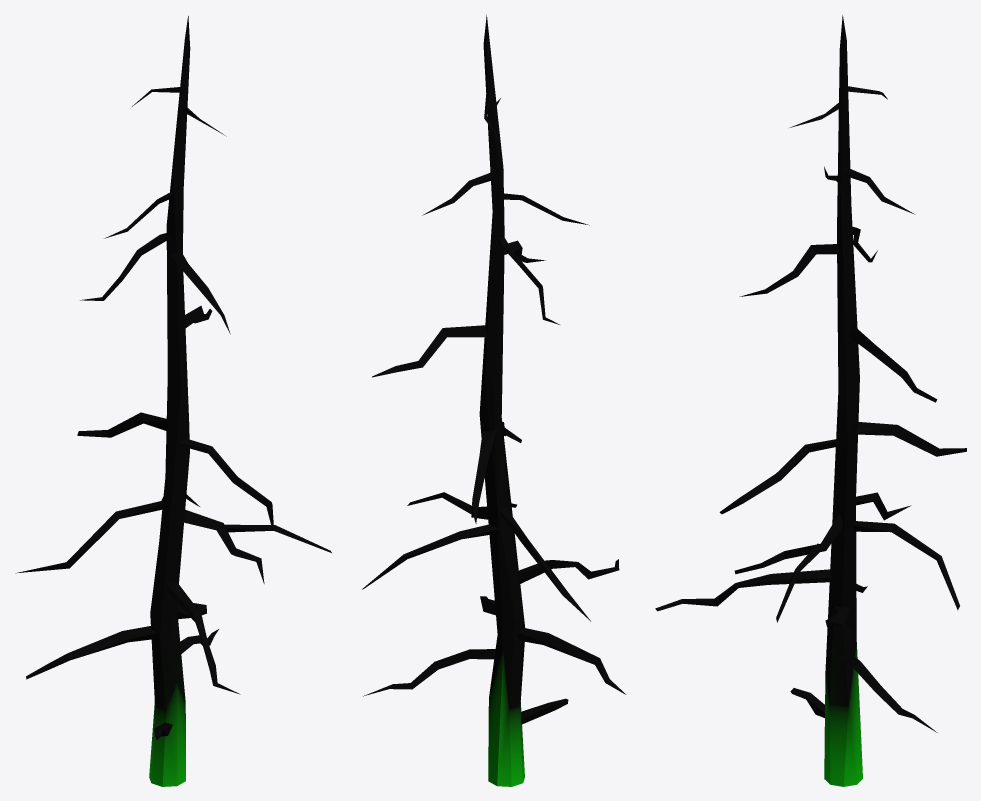
The model's file is SM_Collision_Pine03.fbx.
The picture shows the model from 3 angles, left to right: view 1: azimuth 30°, elevation 25°; view 2: azimuth 150°, elevation 25°; view 3: azimuth 270°, elevation 25°; orthographic projection.
Visible parts, largest first — view 1: SM_Collision_Pine03; view 2: SM_Collision_Pine03; view 3: SM_Collision_Pine03.
Boxes of the visible parts, x1,y1,x2,y2 form: SM_Collision_Pine03: (15,16,331,786); SM_Collision_Pine03: (362,14,626,786); SM_Collision_Pine03: (655,15,966,786).
Size of the model in its own units: 704 by 1946 by 710.
